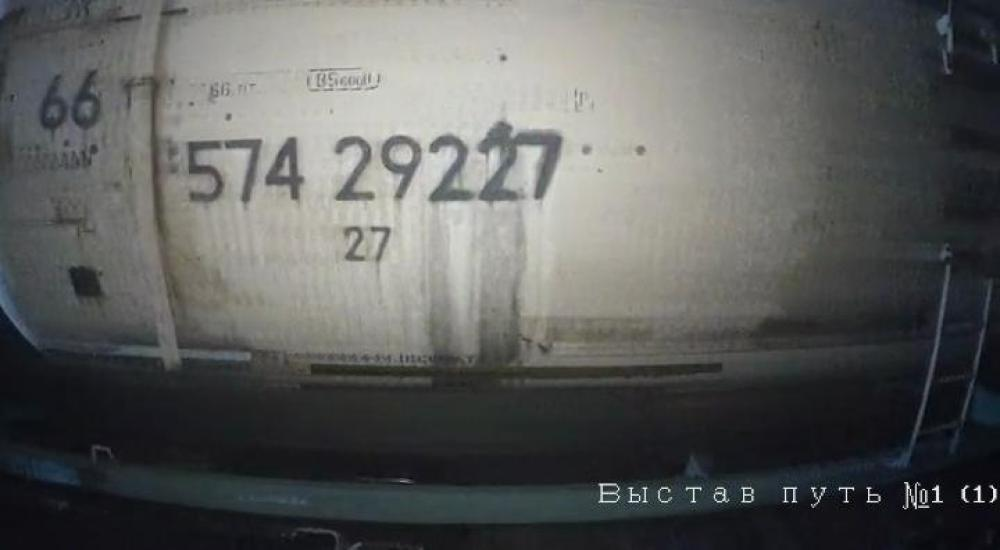Wagon-number: (180, 124, 570, 208)
